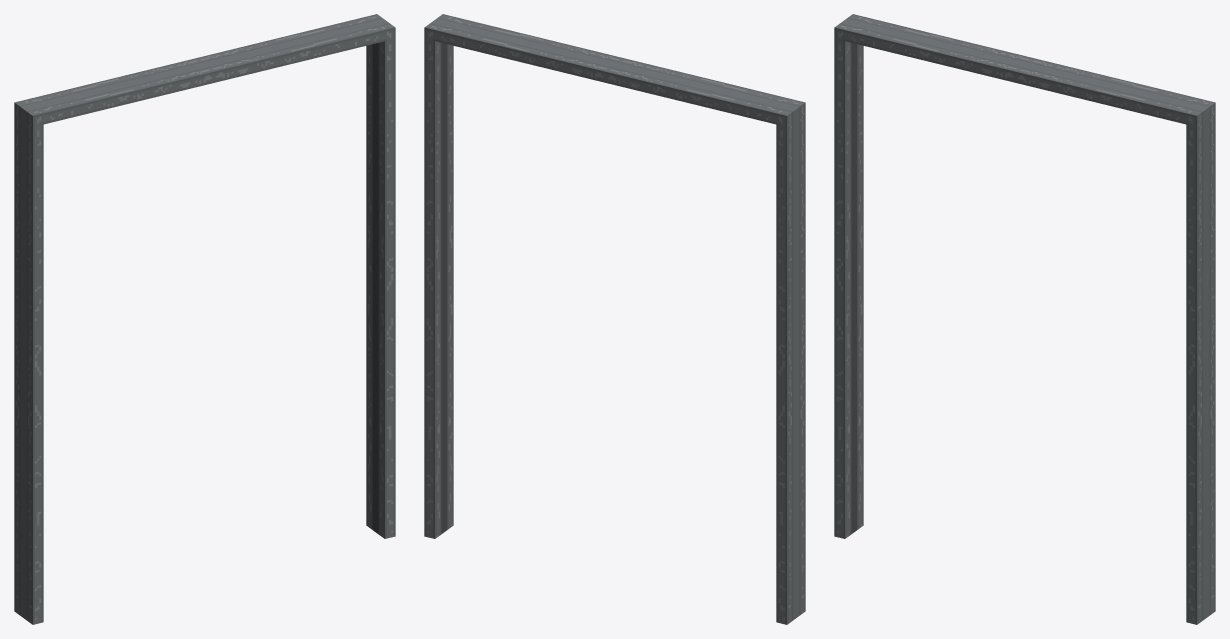
File: Help_Frame.obj
3 renders of one model, left to right at view 1: azimuth 30°, elevation 25°; view 2: azimuth 150°, elevation 25°; view 3: azimuth 330°, elevation 25°, orthographic.
Bounding box in the file's own units: 17 × 22.8 × 1.5.
1 material, 1 textured.
